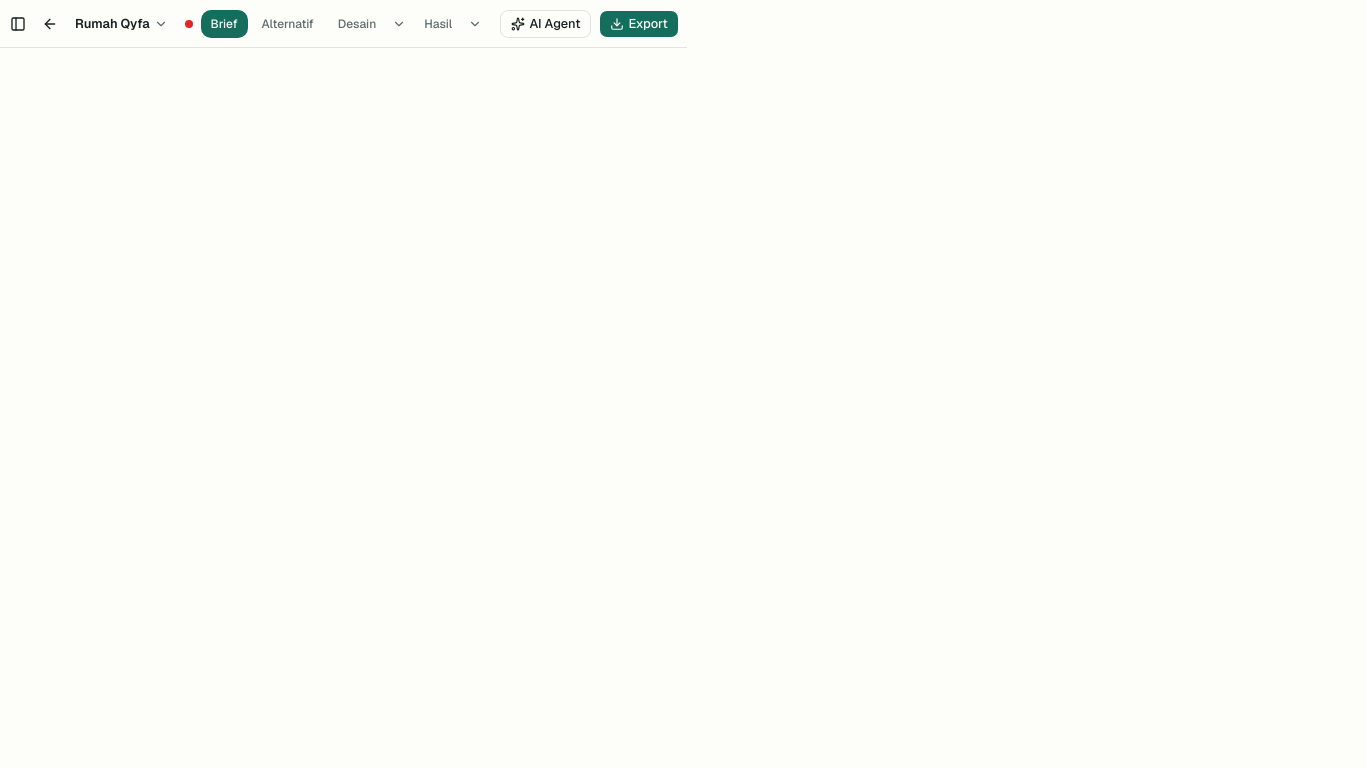
Test: ProjectBar — save status dot › shows the error (red) state
Click the button with test id "save-status-dot" at (189, 24), box [179,14,199,34]
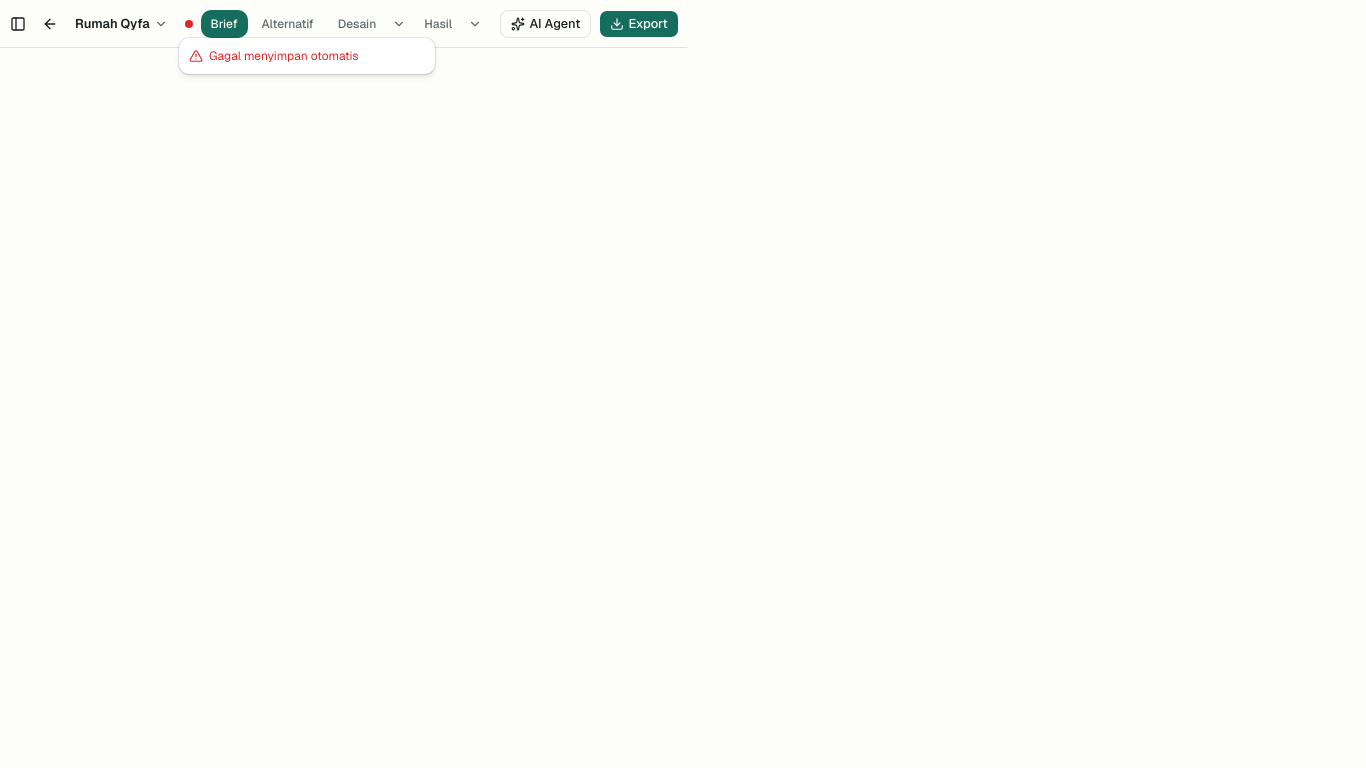
expect the text "Gagal menyimpan otomatis" is shown: met, box [209,48,359,64]
